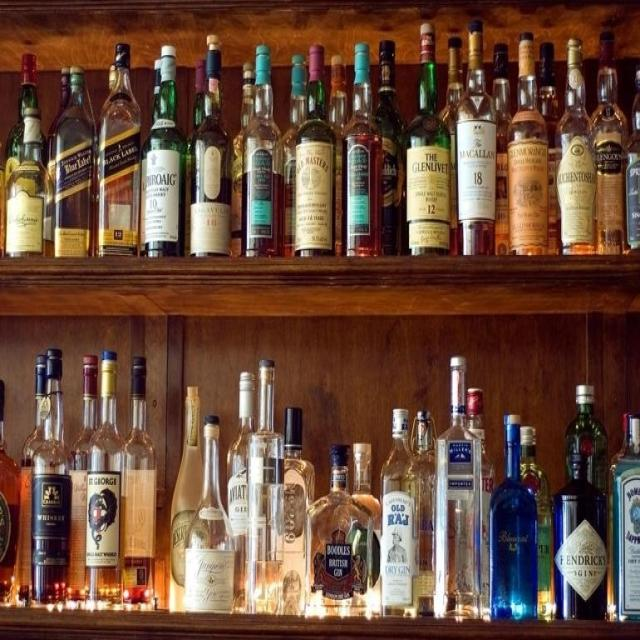Glass: (2, 409, 639, 640), (0, 36, 640, 256)
